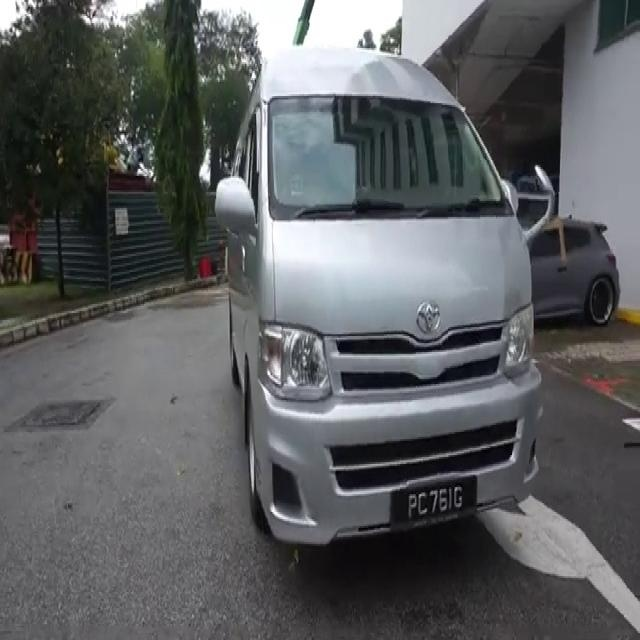Van: (201, 12, 555, 554)
